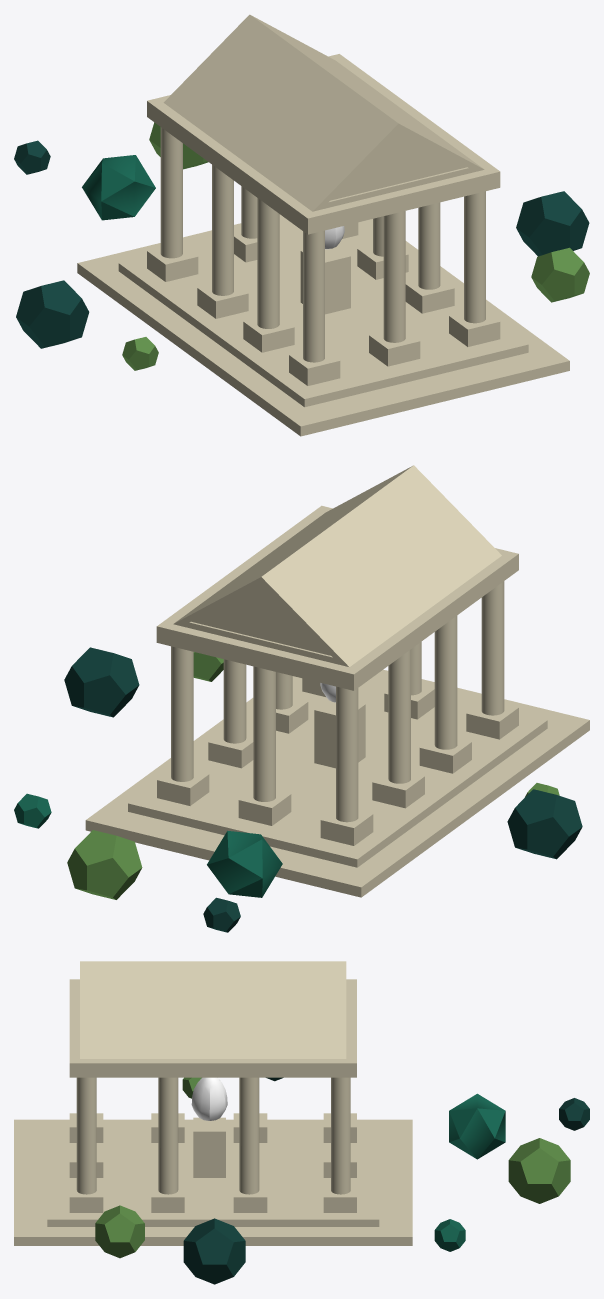
File: 3D_temple.gltf
3 views of the same model, one above another, from view 1: azimuth 30°, elevation 25°; view 2: azimuth 150°, elevation 25°; view 3: azimuth 270°, elevation 25° (orthographic). The views are drawn at different scales.
Parts seen in each view (by area): view 1: rooftop, stair up, stair down, rooftop basement, bush2, bush7, bush3, column10, column1, column9, column4, column2 (+17 smaller); view 2: rooftop, stair up, stair down, rooftop basement, bush5, bush2, bush7, bush3, column4, column6, column5, column1 (+17 smaller); view 3: rooftop, stair up, stair down, rooftop basement, bush5, bush7, bush3, column9, column8, column7, column6, bush8 (+14 smaller).
Boxes of the visible parts, x1,y1,x2,y2 form: rooftop: (163, 14, 484, 211); stair up: (118, 221, 528, 407); stair down: (77, 214, 569, 436); rooftop basement: (147, 54, 500, 234); bush2: (16, 280, 89, 348); bush7: (516, 191, 589, 256); bush3: (82, 155, 155, 220); column10: (383, 211, 405, 342); column1: (303, 230, 324, 362); column9: (464, 191, 485, 323); column4: (160, 127, 182, 258); column2: (257, 198, 279, 328); rooftop: (173, 465, 501, 667); stair up: (128, 677, 547, 867); stair down: (85, 669, 589, 897); rooftop basement: (156, 505, 518, 690); bush5: (67, 830, 142, 899); bush2: (507, 789, 582, 859); bush7: (64, 647, 139, 717); bush3: (207, 830, 282, 897); column4: (336, 686, 358, 822); column6: (171, 646, 193, 781); column5: (253, 666, 275, 801); column1: (481, 581, 504, 715); rooftop: (80, 961, 346, 1058); stair up: (47, 1122, 379, 1226); stair down: (14, 1119, 412, 1245); rooftop basement: (69, 979, 356, 1077); bush5: (508, 1138, 570, 1203); bush7: (183, 1218, 245, 1284); bush3: (449, 1093, 505, 1159); column9: (76, 1077, 96, 1194); column8: (158, 1077, 178, 1194); column7: (239, 1077, 259, 1194); column6: (331, 1077, 350, 1194); bush8: (95, 1205, 144, 1258).
Size of the model in its own units: 16.35 by 7.51 by 17.34.
